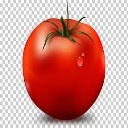tomato: (22, 18, 106, 119)
